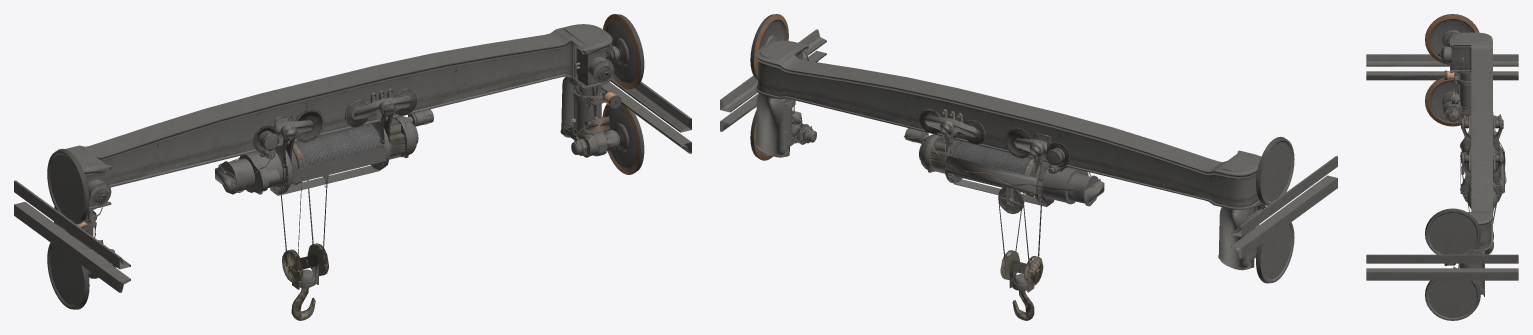
Rendered from overhead-crane.glb.
3 views of the same model, side by side, from view 1: azimuth 30°, elevation 25°; view 2: azimuth 150°, elevation 25°; view 3: azimuth 270°, elevation 25° (orthographic). The views are drawn at different scales.
Visible parts, largest first — view 1: overhead_crane, overhead_crane_winch, overhead_crane_rails; view 2: overhead_crane, overhead_crane_winch, overhead_crane_rails; view 3: overhead_crane, overhead_crane_rails, overhead_crane_winch.
Boxes of the visible parts, x1,y1,x2,y2 form: overhead_crane: [47, 14, 644, 309]; overhead_crane_winch: [215, 88, 433, 320]; overhead_crane_rails: [14, 77, 691, 292]; overhead_crane: [750, 14, 1294, 283]; overhead_crane_winch: [904, 108, 1104, 320]; overhead_crane_rails: [720, 29, 1337, 258]; overhead_crane: [1425, 14, 1492, 320]; overhead_crane_rails: [1366, 54, 1518, 280]; overhead_crane_winch: [1460, 112, 1506, 254].
Size of the model in its own units: 12.49 by 5.13 by 4.
Materials: 2 (2 with a texture image).
